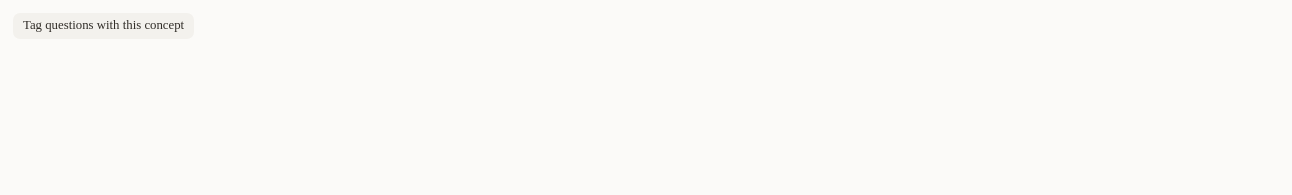
Test: TagQuestions › says so when everything matching is already tagged
Click the button "Tag questions with this concept".
click(104, 26)  # box 12,12 -> 195,40
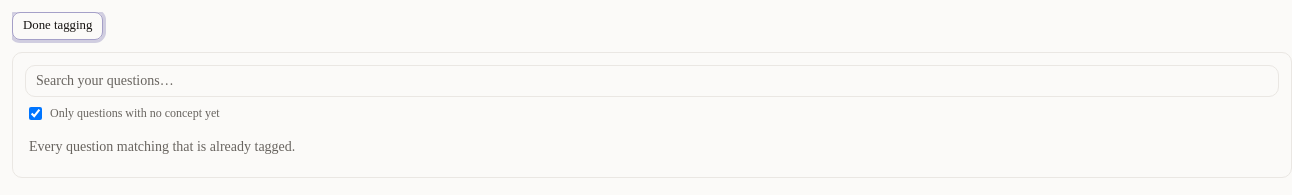
Expected: the text "Every question matching that is already tagged." is shown, 29,139 -> 295,154
